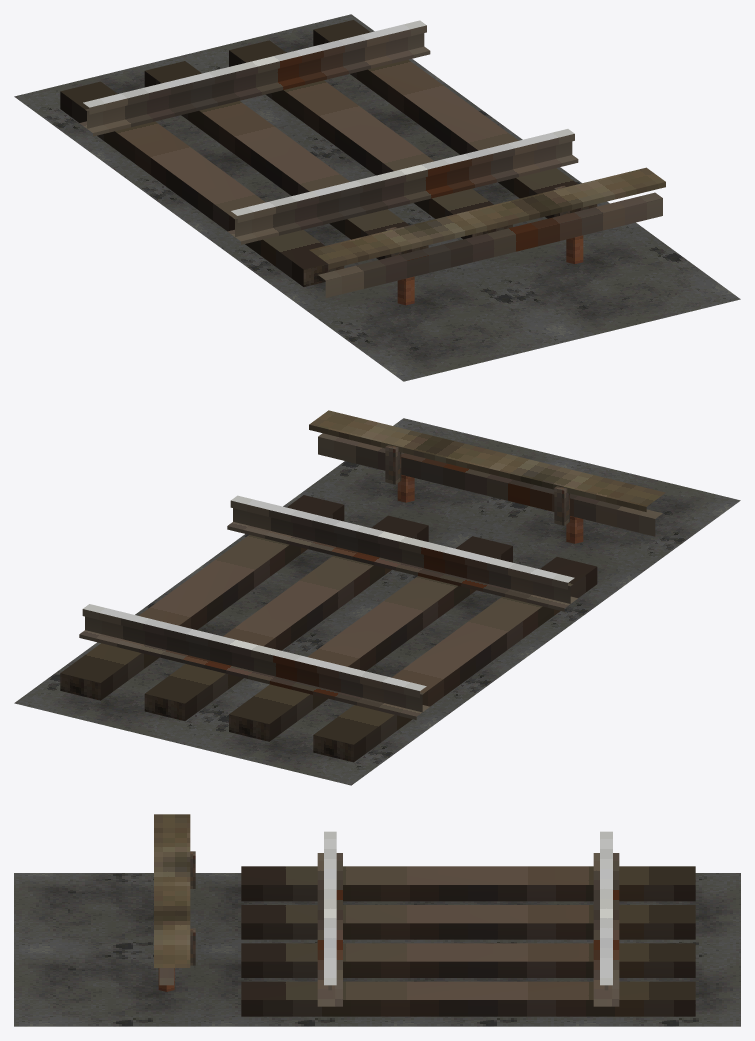
Rendered from track.glb.
The picture shows the model from 3 angles, top to bottom: view 1: azimuth 30°, elevation 25°; view 2: azimuth 150°, elevation 25°; view 3: azimuth 270°, elevation 25°; orthographic projection. The views are drawn at different scales.
Visible parts, largest first — view 1: track; view 2: track; view 3: track.
Part boxes in pixels (x1,y1,x2,y2): track: [14, 14, 740, 381]; track: [14, 410, 740, 785]; track: [14, 814, 740, 1026].
Size of the model in its own units: 2 by 0.355 by 4.
3 materials, 3 textured.
